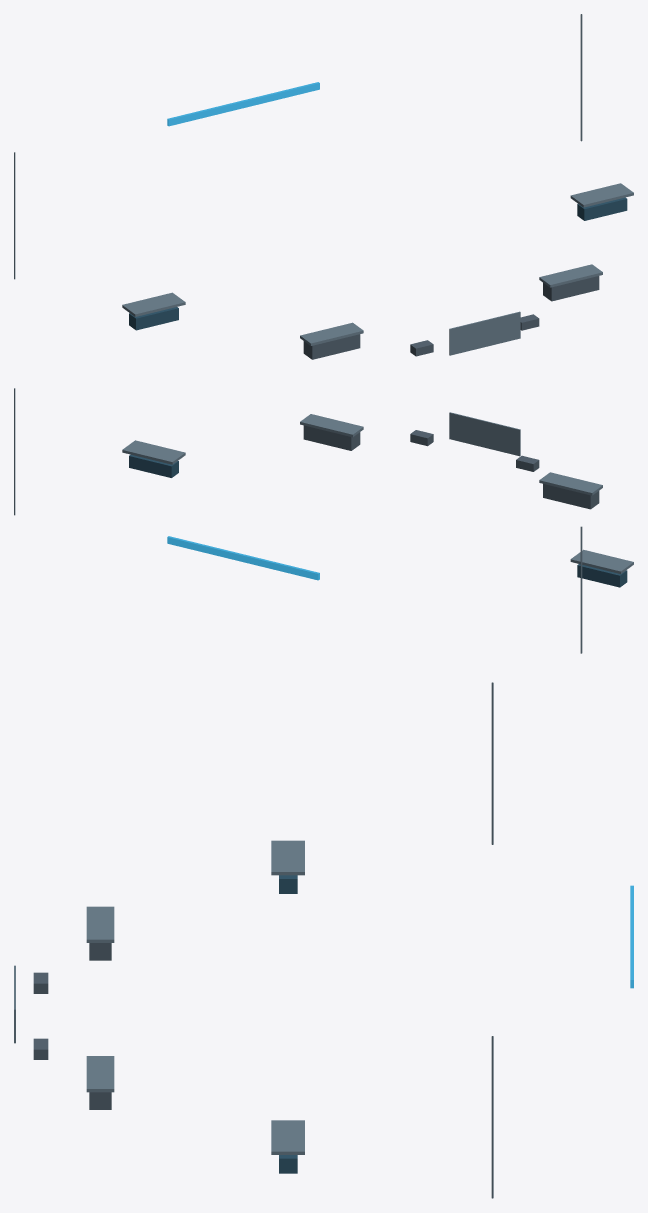
Rendered from stadium_modules-high.glb.
The picture shows the model from 3 angles, top to bottom: view 1: azimuth 30°, elevation 25°; view 2: azimuth 150°, elevation 25°; view 3: azimuth 270°, elevation 25°; orthographic projection. The views are drawn at different scales.
Visible parts, largest first — view 1: Backstop, RibbonBoard, BullpenCanopy_1, BullpenCanopy_-1, Dugout_-1, Dugout_1, DugoutRoof_-1, DugoutRoof_1, Bullpen_1, Bullpen_-1; view 2: Backstop, RibbonBoard, BullpenCanopy_1, Dugout_1, BullpenCanopy_-1, Dugout_-1, DugoutRoof_-1, DugoutRoof_1, Bullpen_1, Bullpen_-1; view 3: BullpenCanopy_-1, BullpenCanopy_1, DugoutRoof_-1, DugoutRoof_1.
Boxes of the visible parts, x1,y1,x2,y2 form: Backstop: (449, 311, 520, 355); RibbonBoard: (167, 82, 319, 126); BullpenCanopy_1: (570, 183, 633, 207); BullpenCanopy_-1: (122, 292, 185, 316); Dugout_-1: (303, 334, 360, 359); Dugout_1: (543, 276, 599, 301); DugoutRoof_-1: (300, 322, 363, 345); DugoutRoof_1: (539, 264, 602, 287); Bullpen_1: (577, 197, 627, 220); Bullpen_-1: (129, 307, 178, 330); Backstop: (449, 412, 520, 456); RibbonBoard: (167, 536, 319, 580); BullpenCanopy_1: (122, 440, 185, 464); Dugout_1: (303, 425, 360, 450); BullpenCanopy_-1: (570, 549, 633, 573); Dugout_-1: (543, 484, 599, 509); DugoutRoof_-1: (539, 472, 602, 495); DugoutRoof_1: (300, 414, 363, 437); Bullpen_1: (129, 454, 178, 477); Bullpen_-1: (577, 564, 627, 587); BullpenCanopy_-1: (271, 840, 304, 875); BullpenCanopy_1: (271, 1120, 304, 1154); DugoutRoof_-1: (86, 906, 114, 942); DugoutRoof_1: (86, 1056, 114, 1092).
Bounding box in the file's own units: 451 × 96 × 334.
